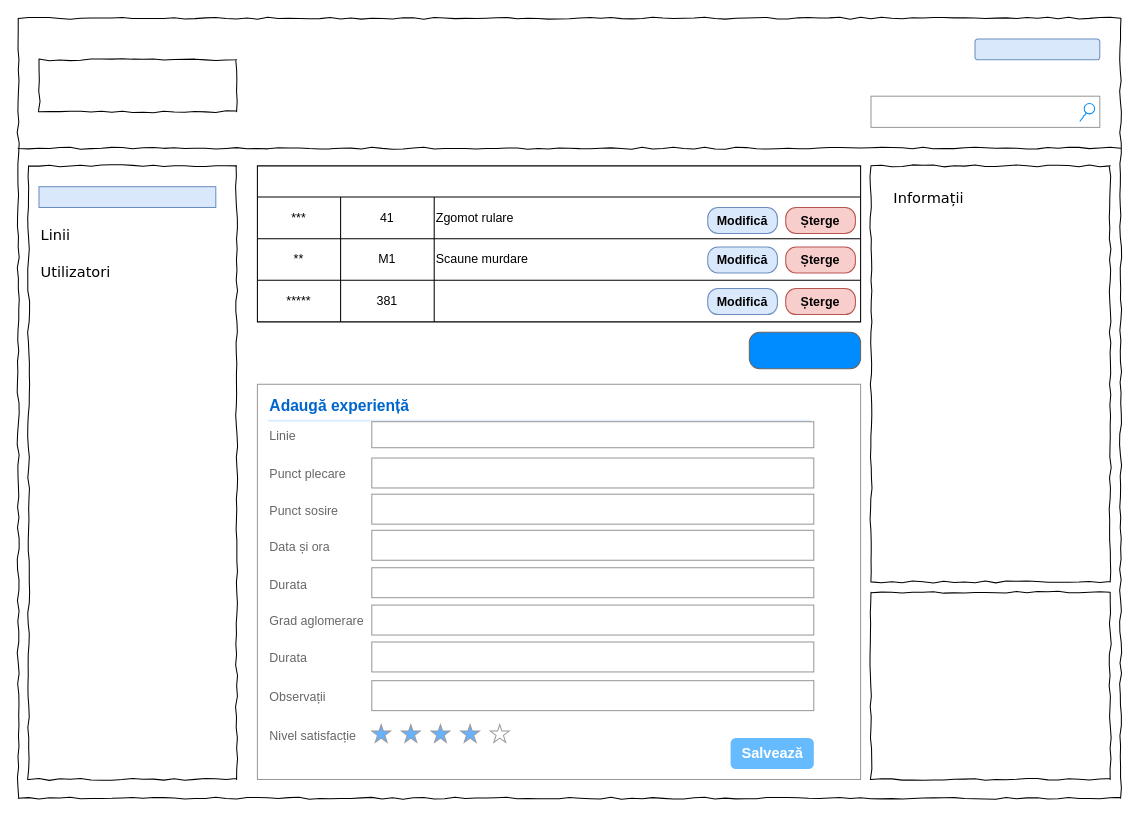
Image size: 1139x816. Some labels were removed from this diagram. The box of each missing label's shape, as (x1, y1, x2, y2) in pixels:
Adaugă: (748, 331, 861, 369)
Deconectare: (974, 38, 1100, 60)
Experiențe: (38, 186, 216, 207)
Experiențe utilizator: (256, 165, 861, 322)
Link-uri externe: (870, 591, 1110, 779)
LOGO: (38, 59, 237, 112)
Search: (870, 95, 1100, 127)
